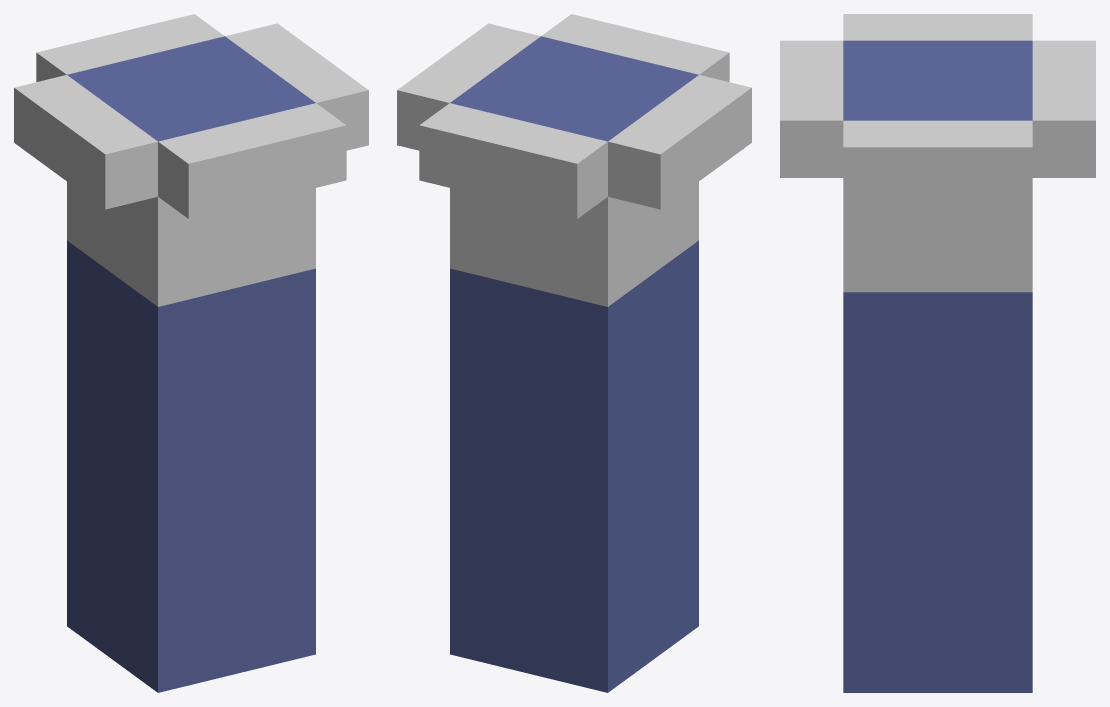
Rendered from SchoolPack-37-Scientific vessel AZUL.obj.
3 renders of one model, left to right at view 1: azimuth 30°, elevation 25°; view 2: azimuth 150°, elevation 25°; view 3: azimuth 270°, elevation 25°, orthographic. The views are drawn at different scales.
Parts seen in each view (by area): view 1: Scientific vessel AZUL; view 2: Scientific vessel AZUL; view 3: Scientific vessel AZUL.
Boxes of the visible parts, <box> form: Scientific vessel AZUL: <box>14,14,368,692</box>; Scientific vessel AZUL: <box>397,14,751,692</box>; Scientific vessel AZUL: <box>780,14,1095,692</box>.
Size of the model in its own units: 0.5 by 1 by 0.5.
Materials: 1 (1 with a texture image).
